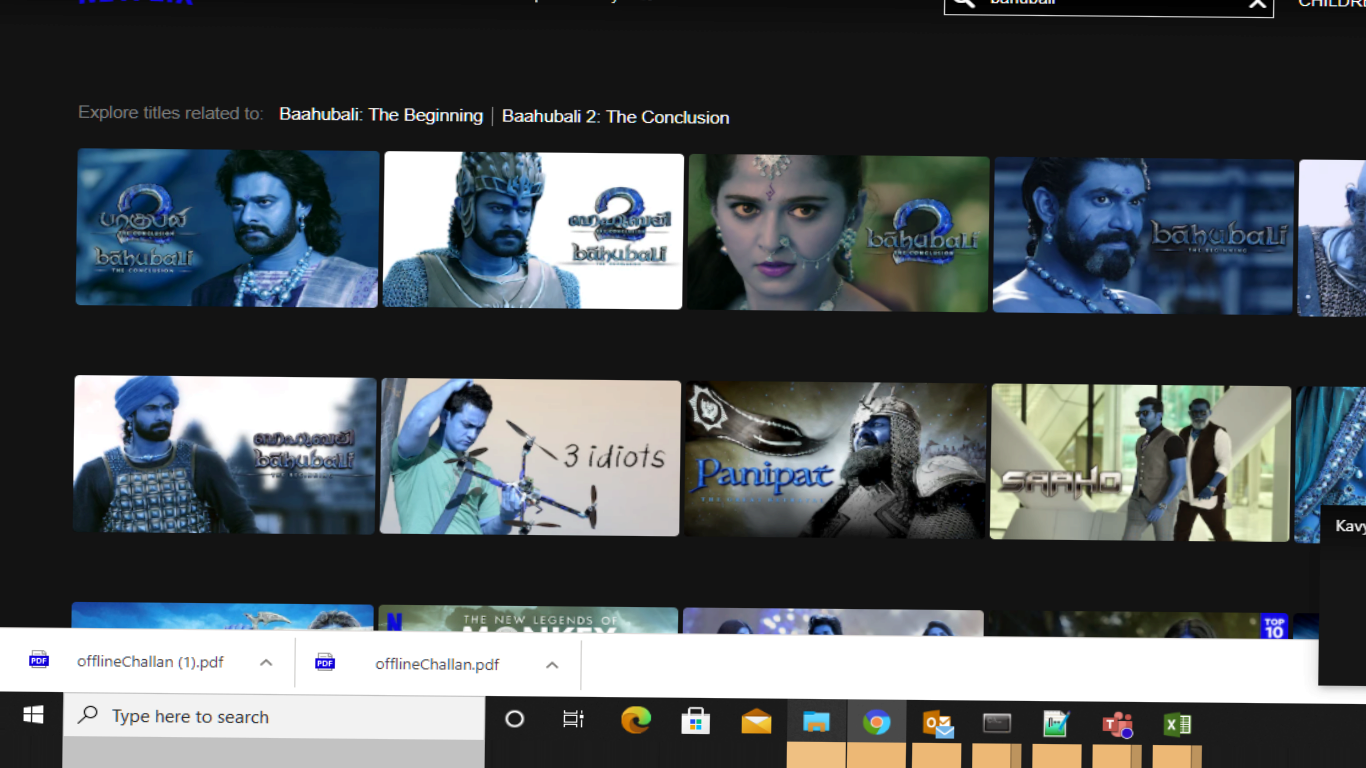resultsfound: (61, 86, 737, 145)
searchtextbox: (935, 1, 1283, 35)
